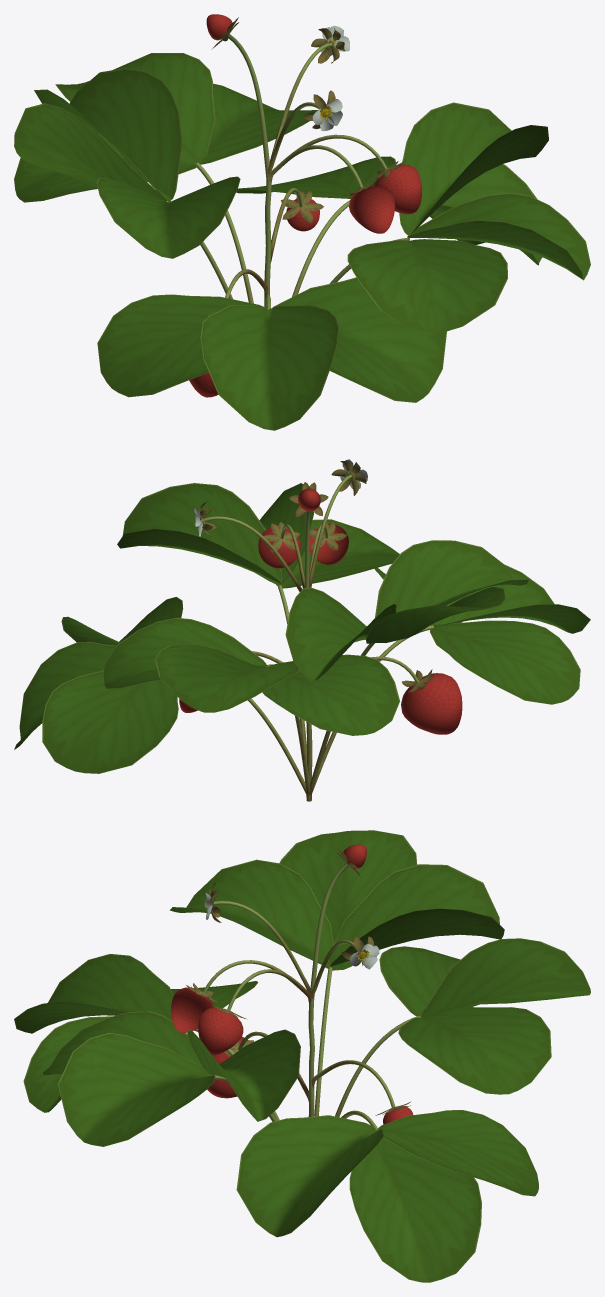
Rendered from strawberry_lot.obj.
3 renders of one model, top to bottom at view 1: azimuth 30°, elevation 25°; view 2: azimuth 150°, elevation 25°; view 3: azimuth 270°, elevation 25°, orthographic. The views are drawn at different scales.
Parts seen in each view (by area): view 1: strawberry_lot leaf, stam strawberry_lot, strawberry_lot strawberry, strawberry_lot rim_leaf, strawberry_lot flower_leaf; view 2: strawberry_lot leaf, strawberry_lot strawberry, stam strawberry_lot, strawberry_lot rim_leaf; view 3: strawberry_lot leaf, stam strawberry_lot, strawberry_lot strawberry, strawberry_lot rim_leaf.
Part boxes in pixels (box(x1,y1,x2,y2)): strawberry_lot leaf: box(14, 53, 590, 430); stam strawberry_lot: box(169, 34, 409, 309); strawberry_lot strawberry: box(189, 14, 422, 397); strawberry_lot rim_leaf: box(211, 17, 405, 222); strawberry_lot flower_leaf: box(312, 25, 349, 130); strawberry_lot leaf: box(14, 483, 590, 773); strawberry_lot strawberry: box(179, 488, 462, 734); stam strawberry_lot: box(204, 475, 433, 801); strawberry_lot rim_leaf: box(199, 461, 434, 692); strawberry_lot leaf: box(14, 830, 590, 1282); stam strawberry_lot: box(194, 863, 420, 1130); strawberry_lot strawberry: box(171, 844, 413, 1124); strawberry_lot rim_leaf: box(186, 848, 410, 1115).
Size of the model in its own units: 15.37 by 10.7 by 16.01.
Materials: 1 (1 with a texture image).
